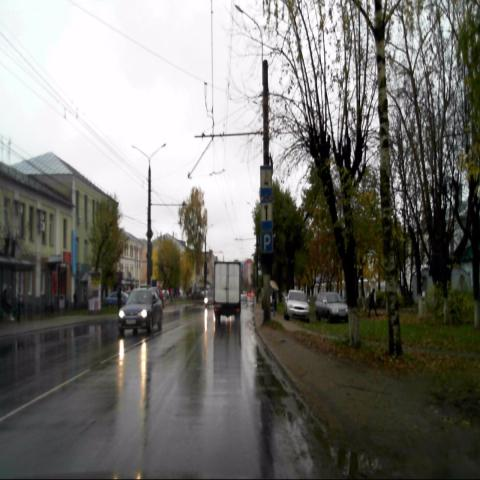7_4: (261, 199, 273, 231)
7_5: (260, 164, 272, 196)
